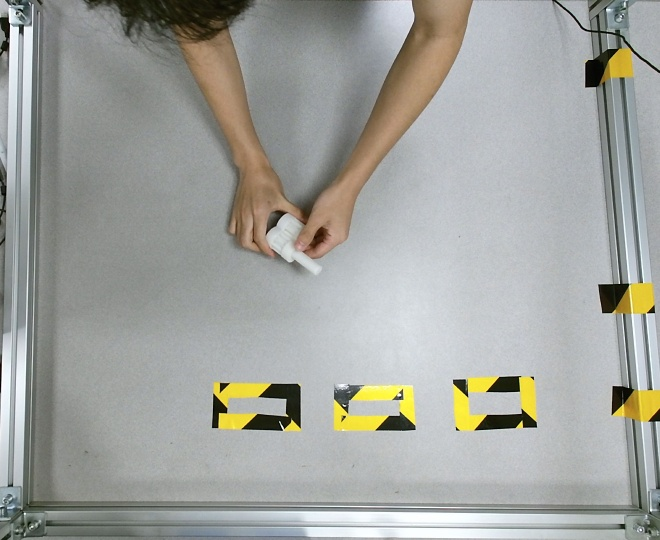stage_4: (266, 214, 321, 276)
